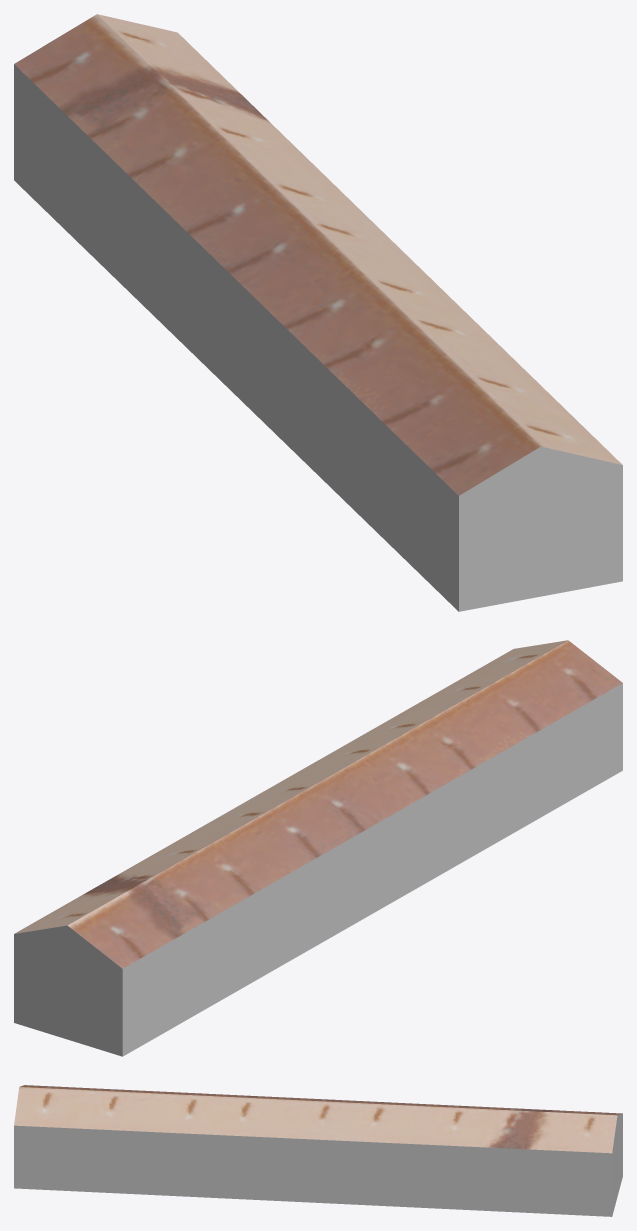
Rendered from DEBW_0010007Txam.gltf.
3 views of the same model, one above another, from view 1: azimuth 30°, elevation 25°; view 2: azimuth 150°, elevation 25°; view 3: azimuth 270°, elevation 25° (orthographic). The views are drawn at different scales.
Visible parts, largest first — view 1: Z_UP; view 2: Z_UP; view 3: Z_UP.
Boxes of the visible parts, <box> form: Z_UP: <box>14,14,622,611</box>; Z_UP: <box>14,640,622,1056</box>; Z_UP: <box>14,1085,622,1216</box>.
Bounding box in the file's own units: 15.34 × 8.43 × 57.06.
2 materials, 1 textured.
